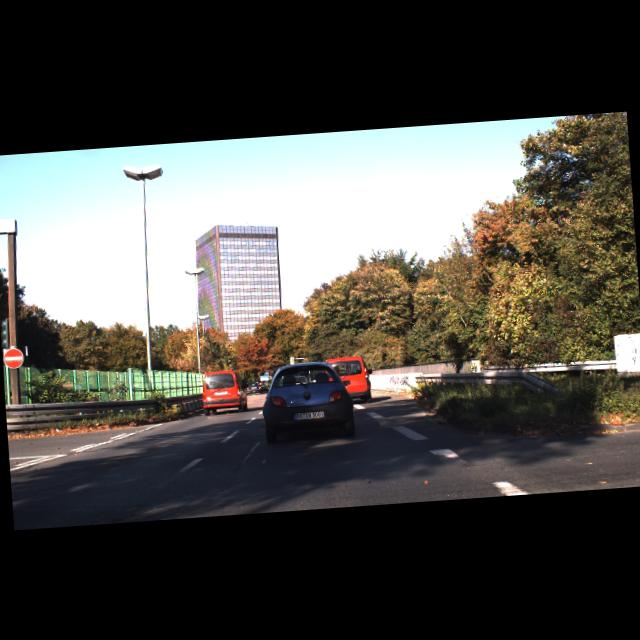other: (2, 347, 24, 368)
